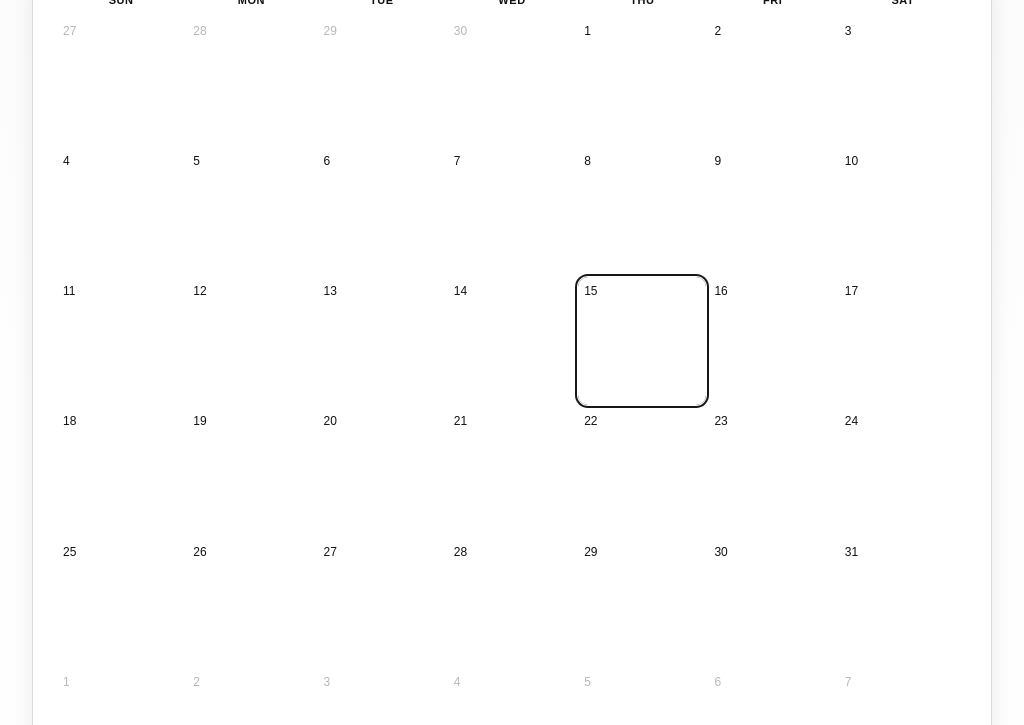
Test: FinancialCalendar Page › adds a new reminder using preset pill and submits mutation
The width and height of the screenshot is (1024, 725).
Later steps or results of the test are not shown.
(page scrolled)
Note: Select October 15
Click the button with test id "cal-day-2026-10-15" at x=642, y=341, box left=578, top=277, right=706, bottom=405
(page scrolled)
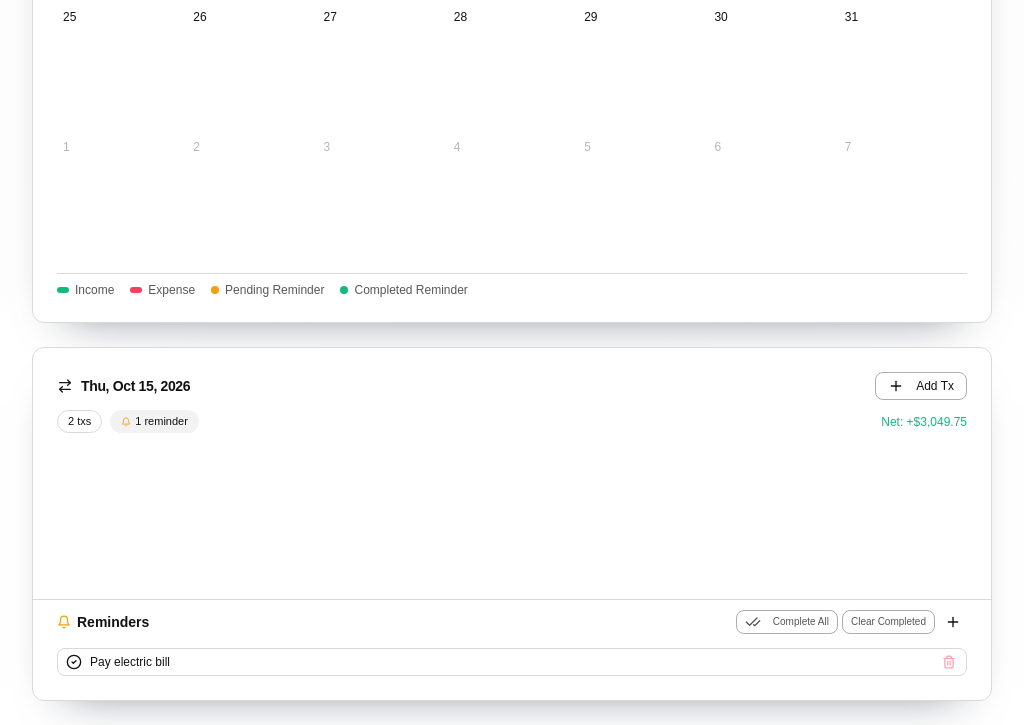
Note: Toggle add reminder form
Click the button with test id "button-toggle-add-reminder" at x=953, y=622, box left=939, top=608, right=967, bottom=636
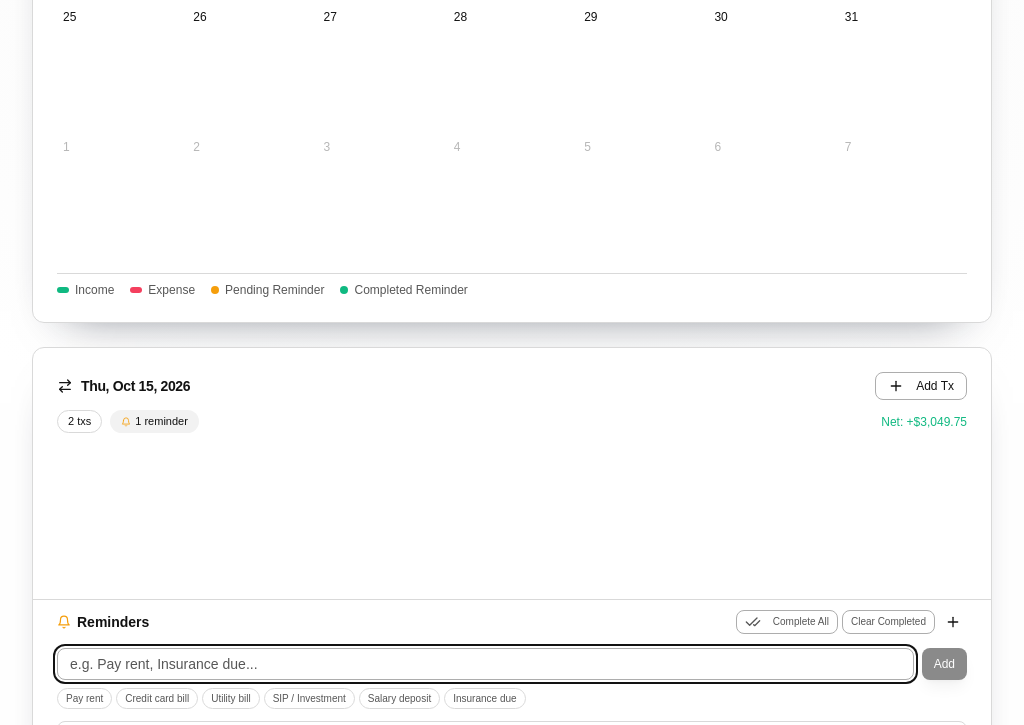
Expected: the field with test id "input-reminder-title" is shown, left=57, top=648, right=914, bottom=680
Note: Click preset chip "Pay rent"
Click the button "Pay rent" at x=85, y=698, box left=57, top=688, right=112, bottom=709
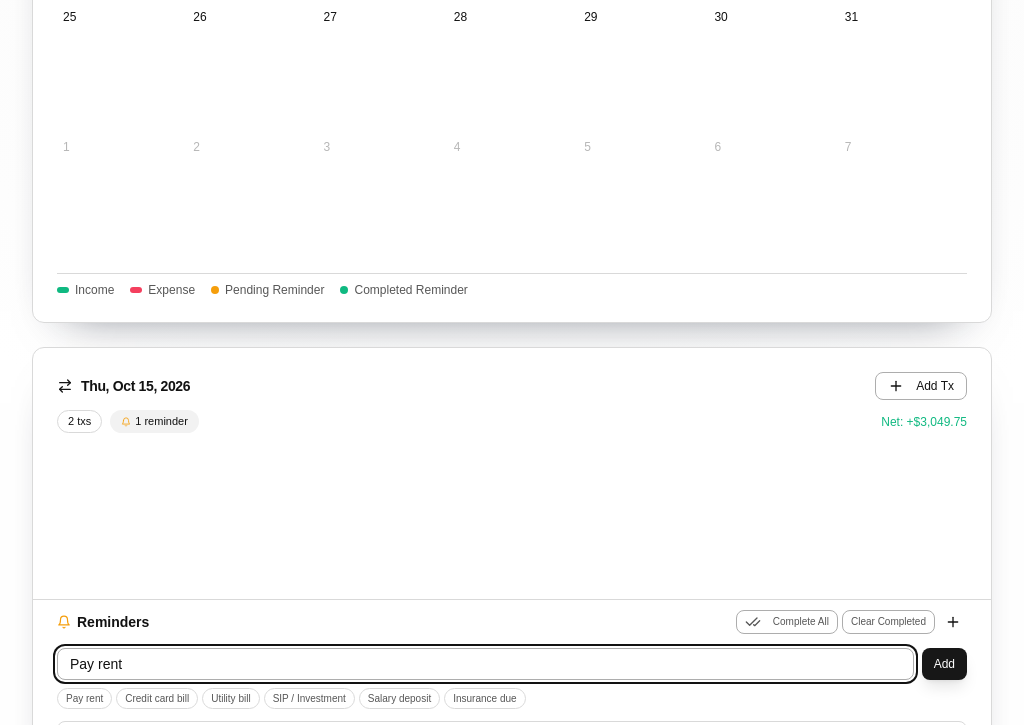
Expected: the field with test id "input-reminder-title" holds "Pay rent", left=57, top=648, right=914, bottom=680
